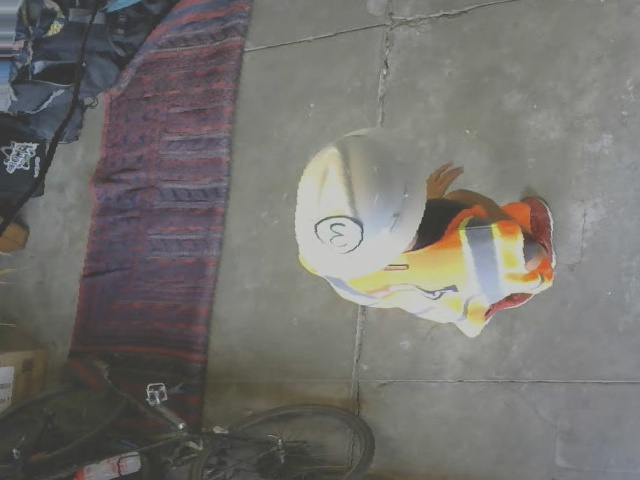three: (310, 216, 363, 253)
